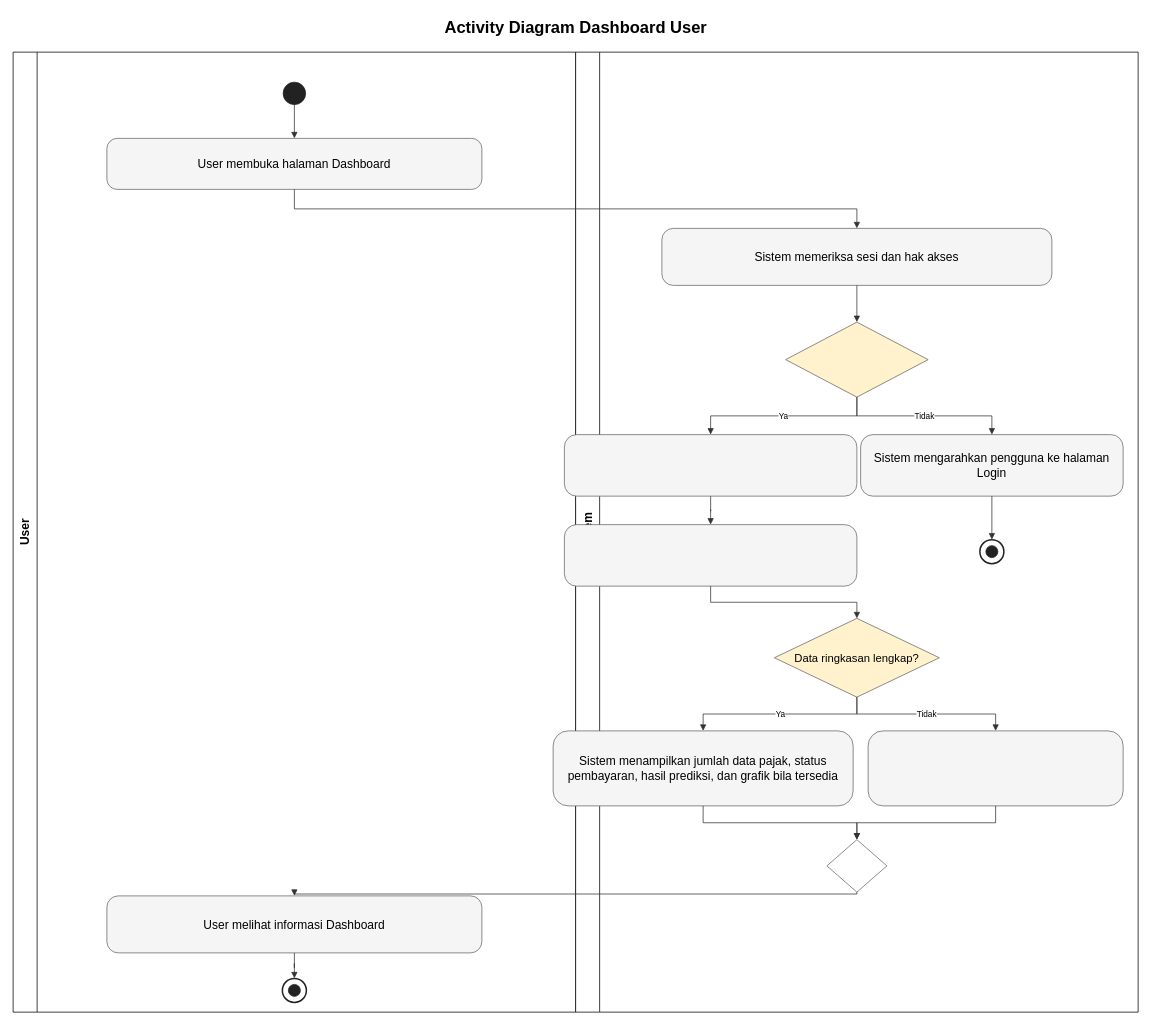
Some shapes in this 1151 by 1025 pixel diagram are drawn without their labels. Each missing label, with the centre of its shape:
"Sesi valid?" belongs at point 856,359.
"Sistem menampilkan informasi Dashboard yang tersedia sesuai hak akses User" belongs at point 995,768.
"Sistem mengambil ringkasan data pajak User dari basis data" belongs at point 710,465.
"Sistem mengolah data ringkasan Dashboard" belongs at point 710,555.
